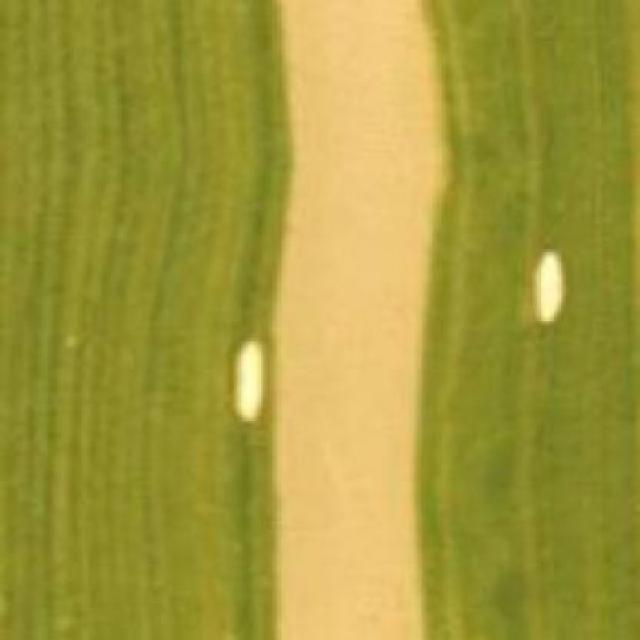whorl-maggot: (529, 242, 574, 336), (231, 331, 272, 420)
